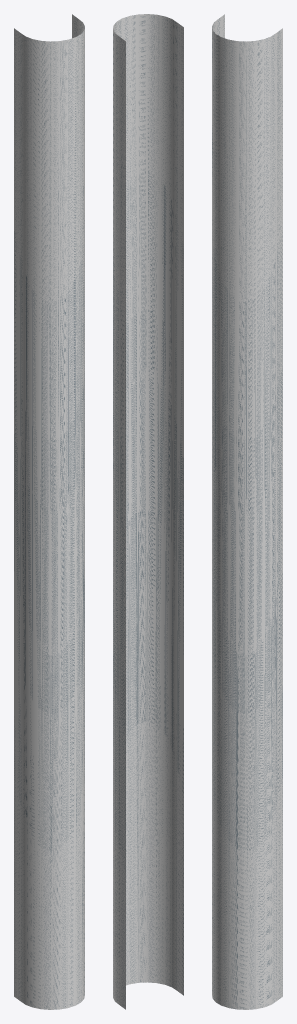
File: WallFace_T2.dae
3 views of the same model, side by side, from view 1: azimuth 30°, elevation 25°; view 2: azimuth 210°, elevation 25°; view 3: azimuth 330°, elevation 25° (orthographic).
Visible parts, largest first — view 1: group_0; view 2: group_0; view 3: group_0.
Part boxes in pixels (x1,y1,x2,y2): group_0: [14, 14, 84, 1009]; group_0: [113, 14, 183, 1009]; group_0: [212, 14, 282, 1009].
Size of the model in its own units: 9.84 by 7.48 by 157.
